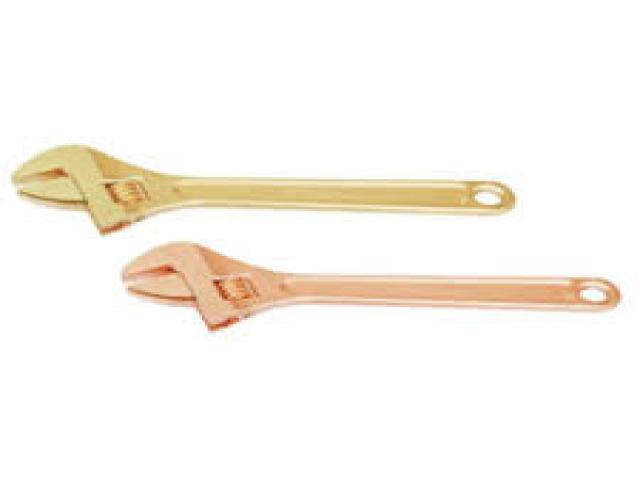Adjustable spanner: (14, 145, 515, 233), (124, 242, 620, 330)
